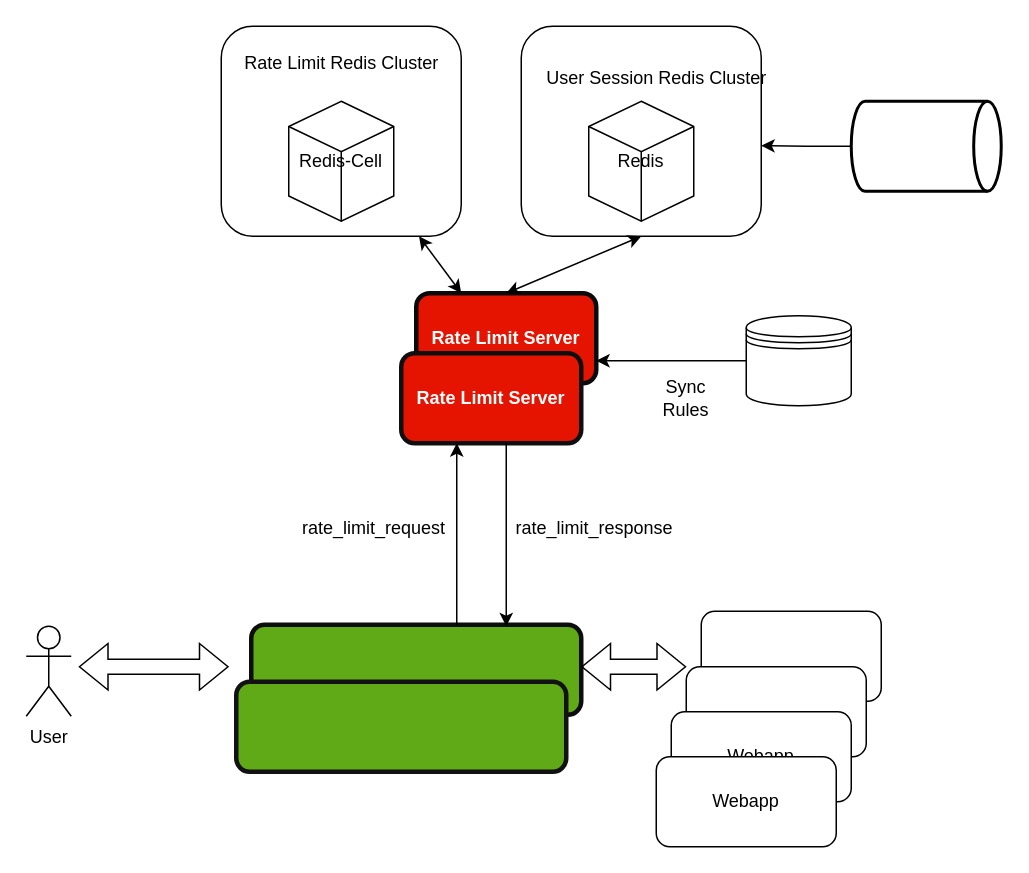
Some shapes in this 1029 by 873 pixel diagram are drawn without their labels. Each missing label, with the box of its shape:
Nginx: (248, 622, 583, 716)
Nginx With rate-limit-request-module: (233, 679, 568, 773)
Rules DB: (745, 314, 851, 406)
User Session Message Queue: (849, 99, 1002, 192)
